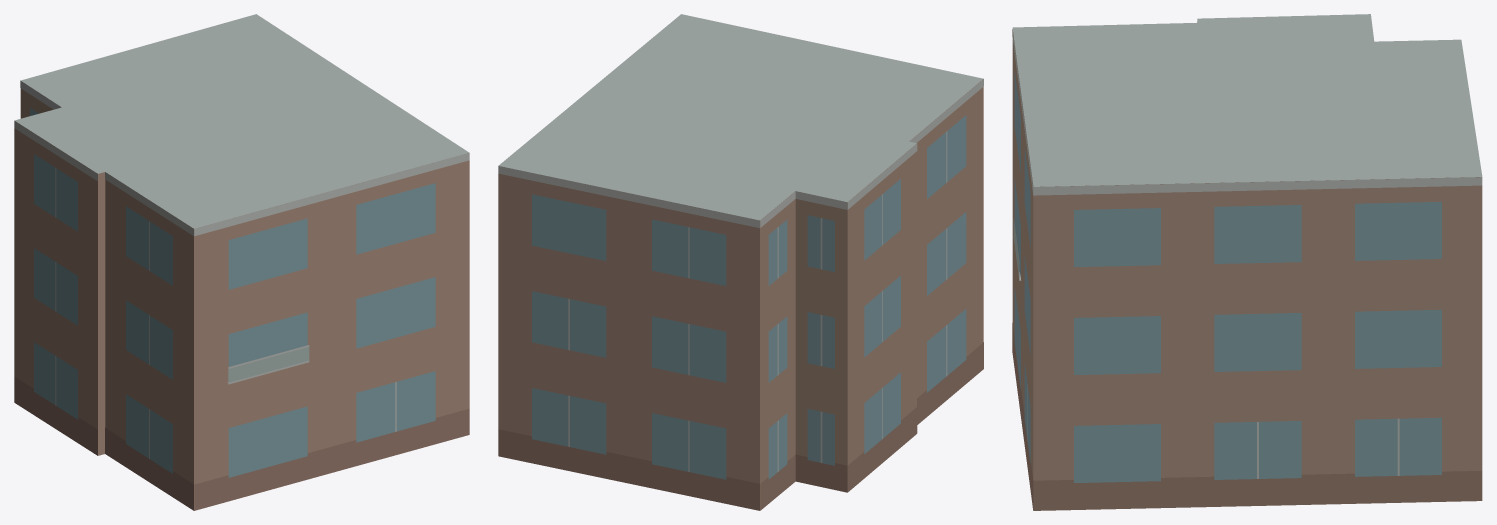
File: survey-upis-32658568.glb
3 views of the same model, side by side, from view 1: azimuth 30°, elevation 25°; view 2: azimuth 150°, elevation 25°; view 3: azimuth 270°, elevation 25° (orthographic). The views are drawn at different scales.
Parts seen in each view (by area): view 1: survey-upis-32658568.tmp; view 2: survey-upis-32658568.tmp; view 3: survey-upis-32658568.tmp.
Boxes of the visible parts, x1,y1,x2,y2 form: survey-upis-32658568.tmp: [14, 14, 469, 510]; survey-upis-32658568.tmp: [498, 14, 983, 510]; survey-upis-32658568.tmp: [1012, 14, 1482, 510].
Bounding box in the file's own units: 10.48 × 9.15 × 12.04.
